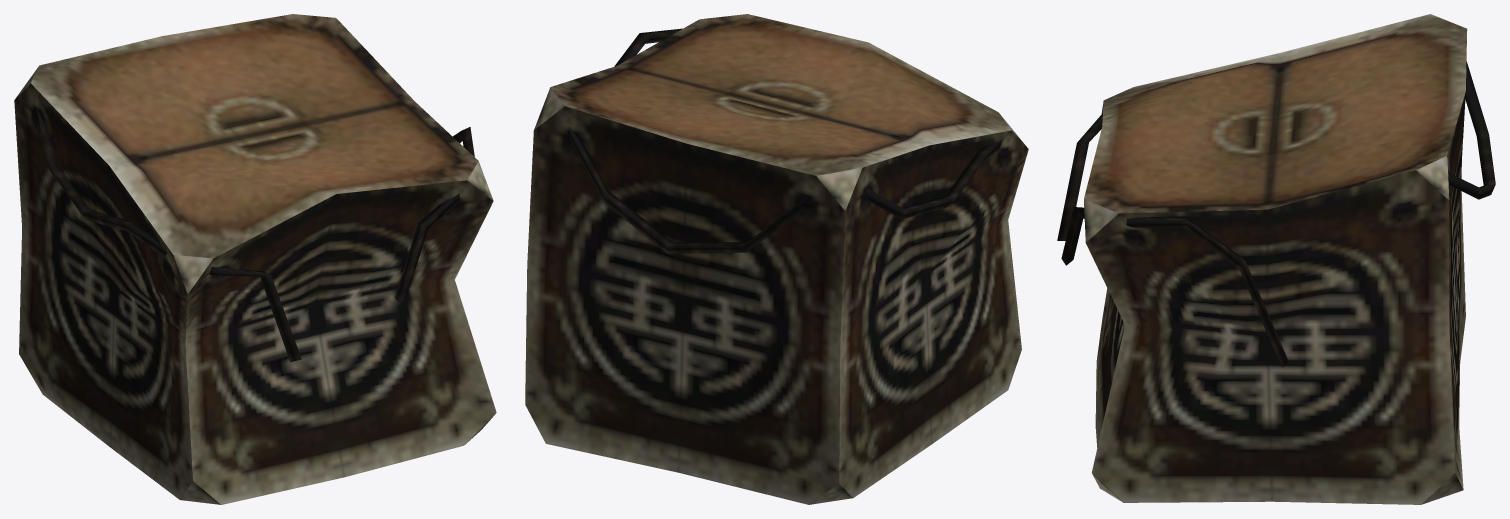
File: general_obj_breakenbox02.fbx
3 renders of one model, left to right at view 1: azimuth 30°, elevation 25°; view 2: azimuth 150°, elevation 25°; view 3: azimuth 270°, elevation 25°, orthographic. The views are drawn at different scales.
Visible parts, largest first — view 1: Object04; view 2: Object04; view 3: Object04.
Boxes of the visible parts, left/top/right/bottom form: Object04: left=14, top=14, right=496, bottom=504; Object04: left=525, top=14, right=1028, bottom=504; Object04: left=1057, top=14, right=1495, bottom=504.
Size of the model in its own units: 1.13 by 0.9579 by 1.14.
